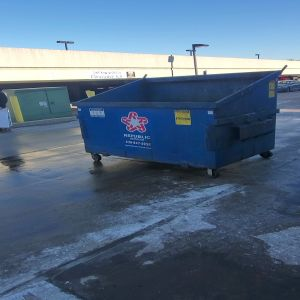Dumpster: (71, 71, 283, 183)
